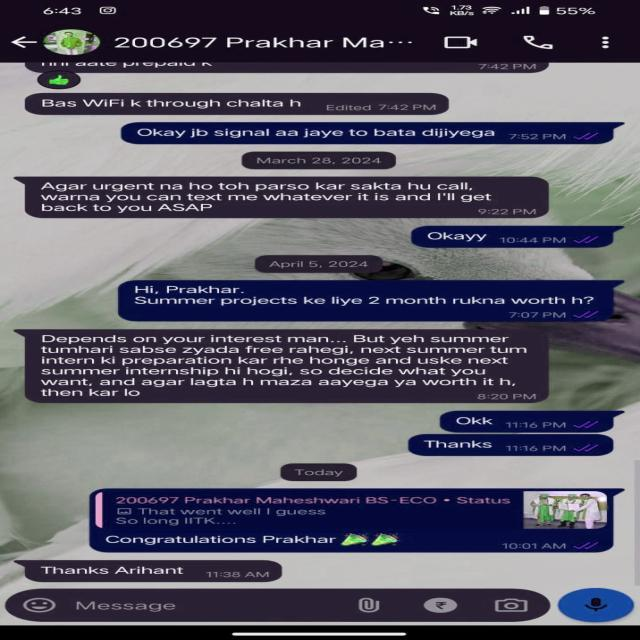scam: (21, 332, 553, 404), (25, 174, 553, 217), (22, 91, 452, 115), (22, 560, 284, 582)
